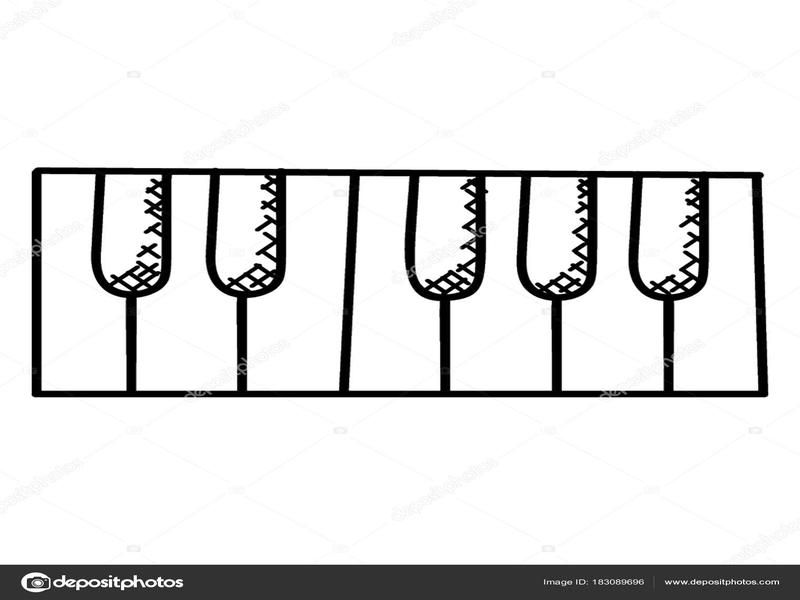piano: (31, 166, 770, 399)
